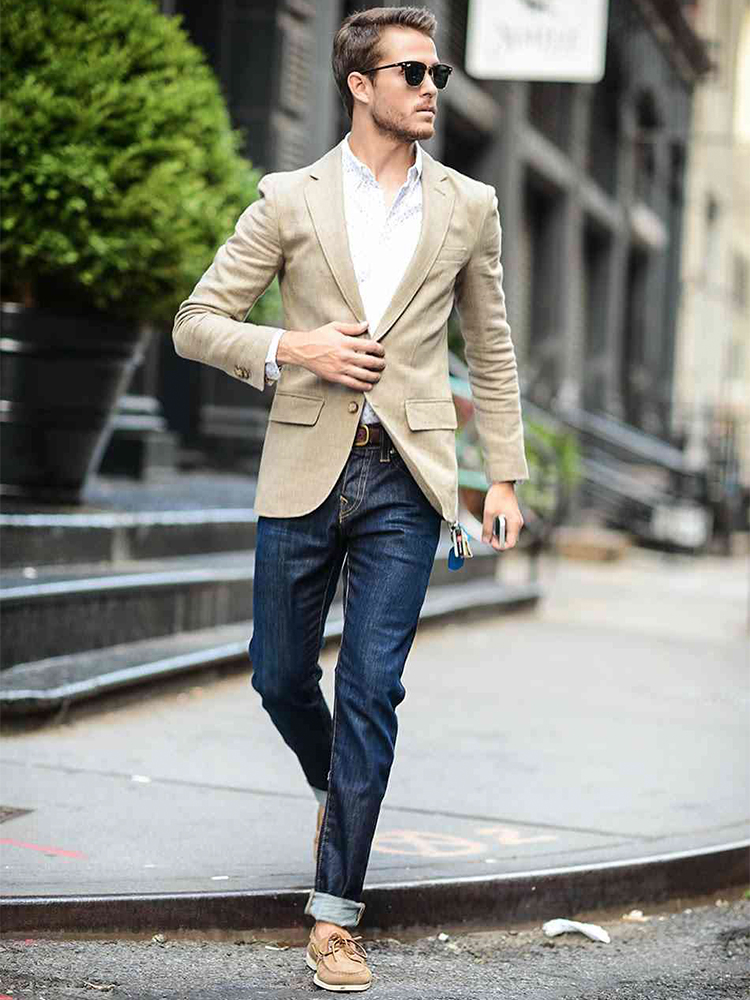NOTSAFE: (264, 7, 464, 514)
